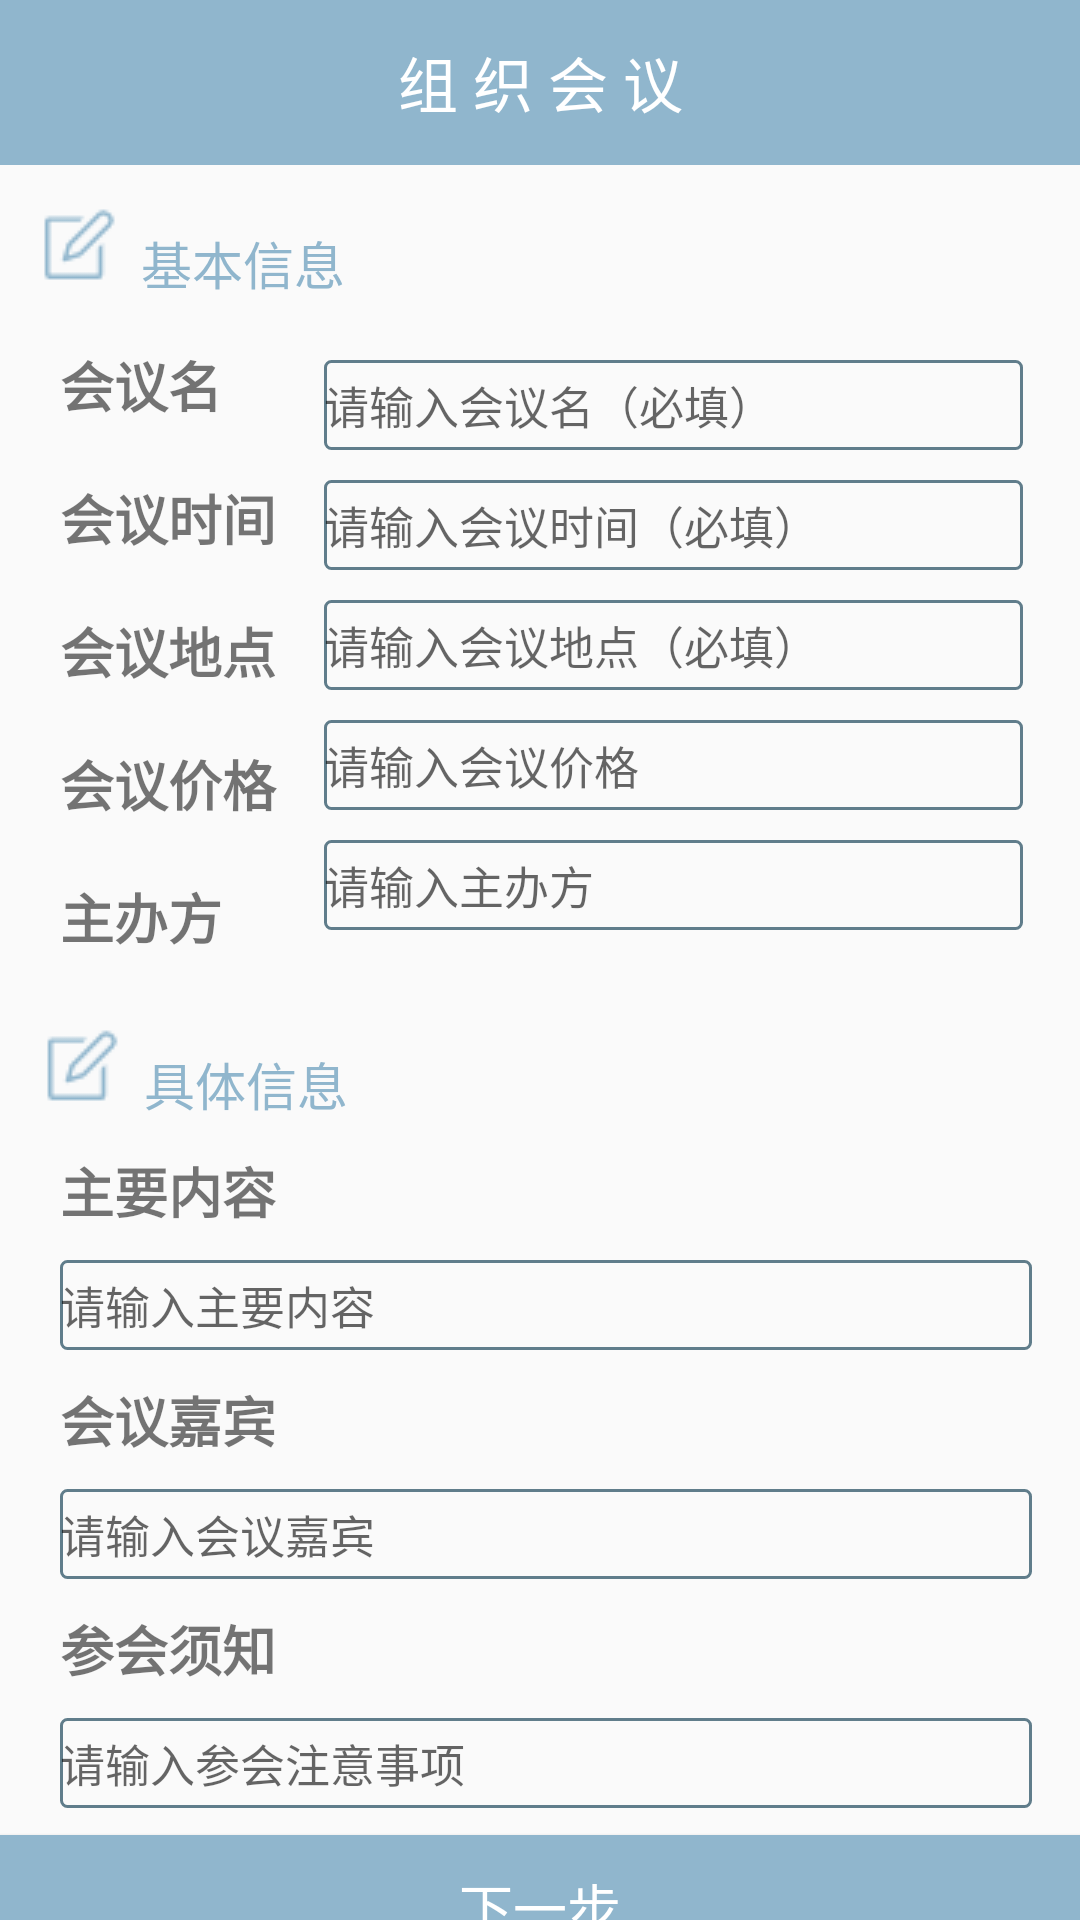

Named icons in this screenshot (1080 × 1920) and their bounding boxes, (x1, y1, x2, y2):
write: (44, 209, 115, 280), (47, 1030, 118, 1101)
